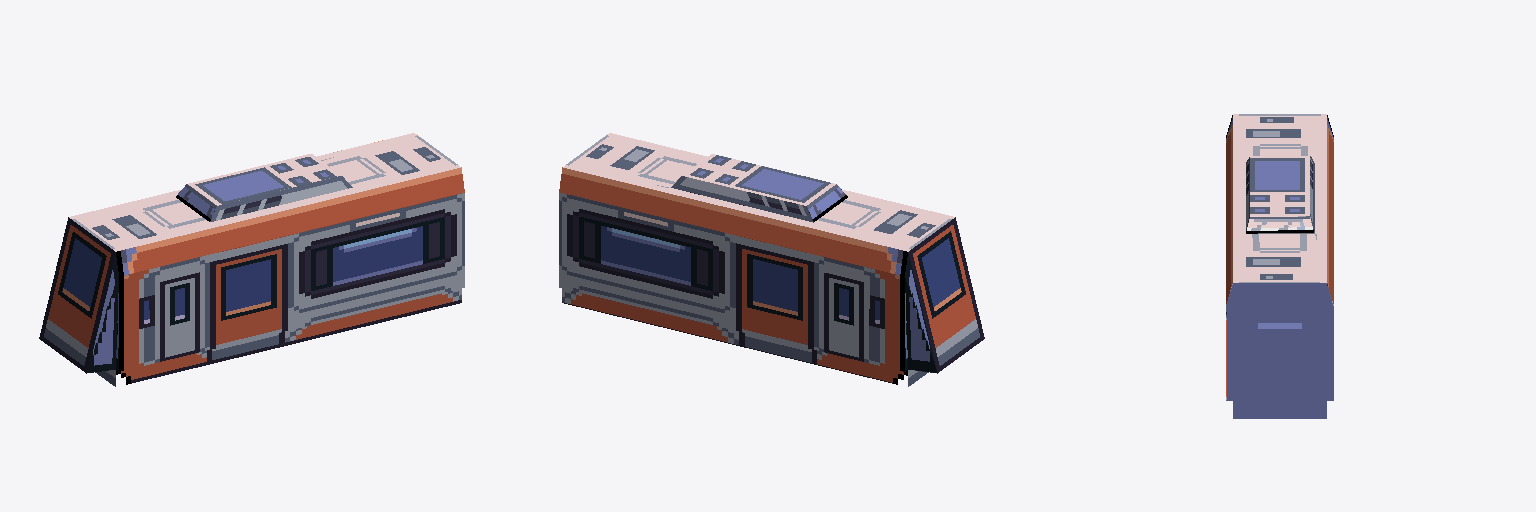
The picture shows the model from 3 angles: view 1: azimuth 30°, elevation 25°; view 2: azimuth 150°, elevation 25°; view 3: azimuth 270°, elevation 25°; orthographic projection.
Parts seen in each view (by area): view 1: poly_Mesh.004; view 2: poly_Mesh.004; view 3: poly_Mesh.004.
Part boxes in pixels (left/top/right/bottom): poly_Mesh.004: left=39, top=133, right=464, bottom=386; poly_Mesh.004: left=559, top=133, right=984, bottom=386; poly_Mesh.004: left=1226, top=114, right=1333, bottom=418.
Bounding box in the file's own units: 0.1024 × 0.0375 × 0.0248.
1 materials, 1 textured.